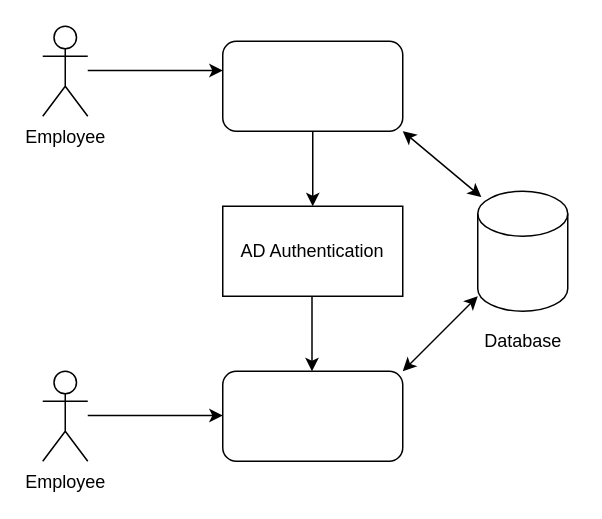
This 602x519 diagram has some shape labels left out. The centre of each missing label's shape, as x and y in pixels:
"Human Capital Dasboard" goes at point (312, 415).
"Web Portal" goes at point (312, 85).
